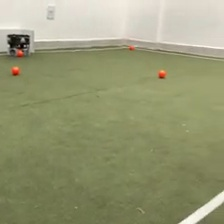ball: (10, 65, 20, 75), (157, 67, 166, 78), (128, 42, 135, 52), (16, 50, 24, 58)
goal: (1, 27, 36, 54)
robot: (6, 32, 33, 58)
